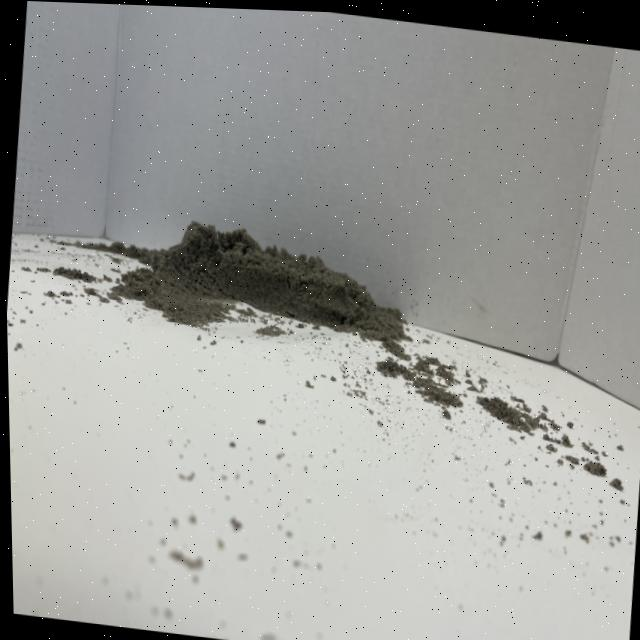sand: (97, 188, 443, 381)
